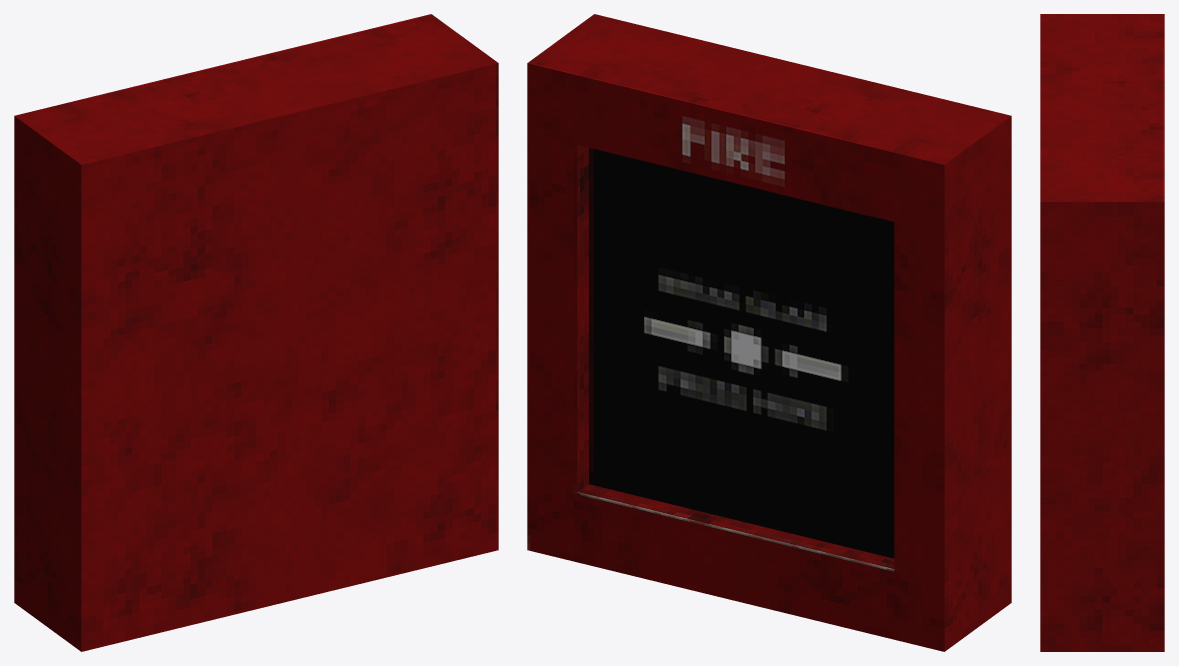
The model's file is SM_FireAlarm.fbx.
The picture shows the model from 3 angles, left to right: view 1: azimuth 30°, elevation 25°; view 2: azimuth 150°, elevation 25°; view 3: azimuth 270°, elevation 25°; orthographic projection. The views are drawn at different scales.
Visible parts, largest first — view 1: FireAlarm; view 2: FireAlarm; view 3: FireAlarm.
Part boxes in pixels (x1,y1,x2,y2): FireAlarm: [14, 14, 498, 651]; FireAlarm: [527, 14, 1011, 651]; FireAlarm: [1040, 14, 1164, 651].
Size of the model in its own units: 10.1 by 11.27 by 2.82.
